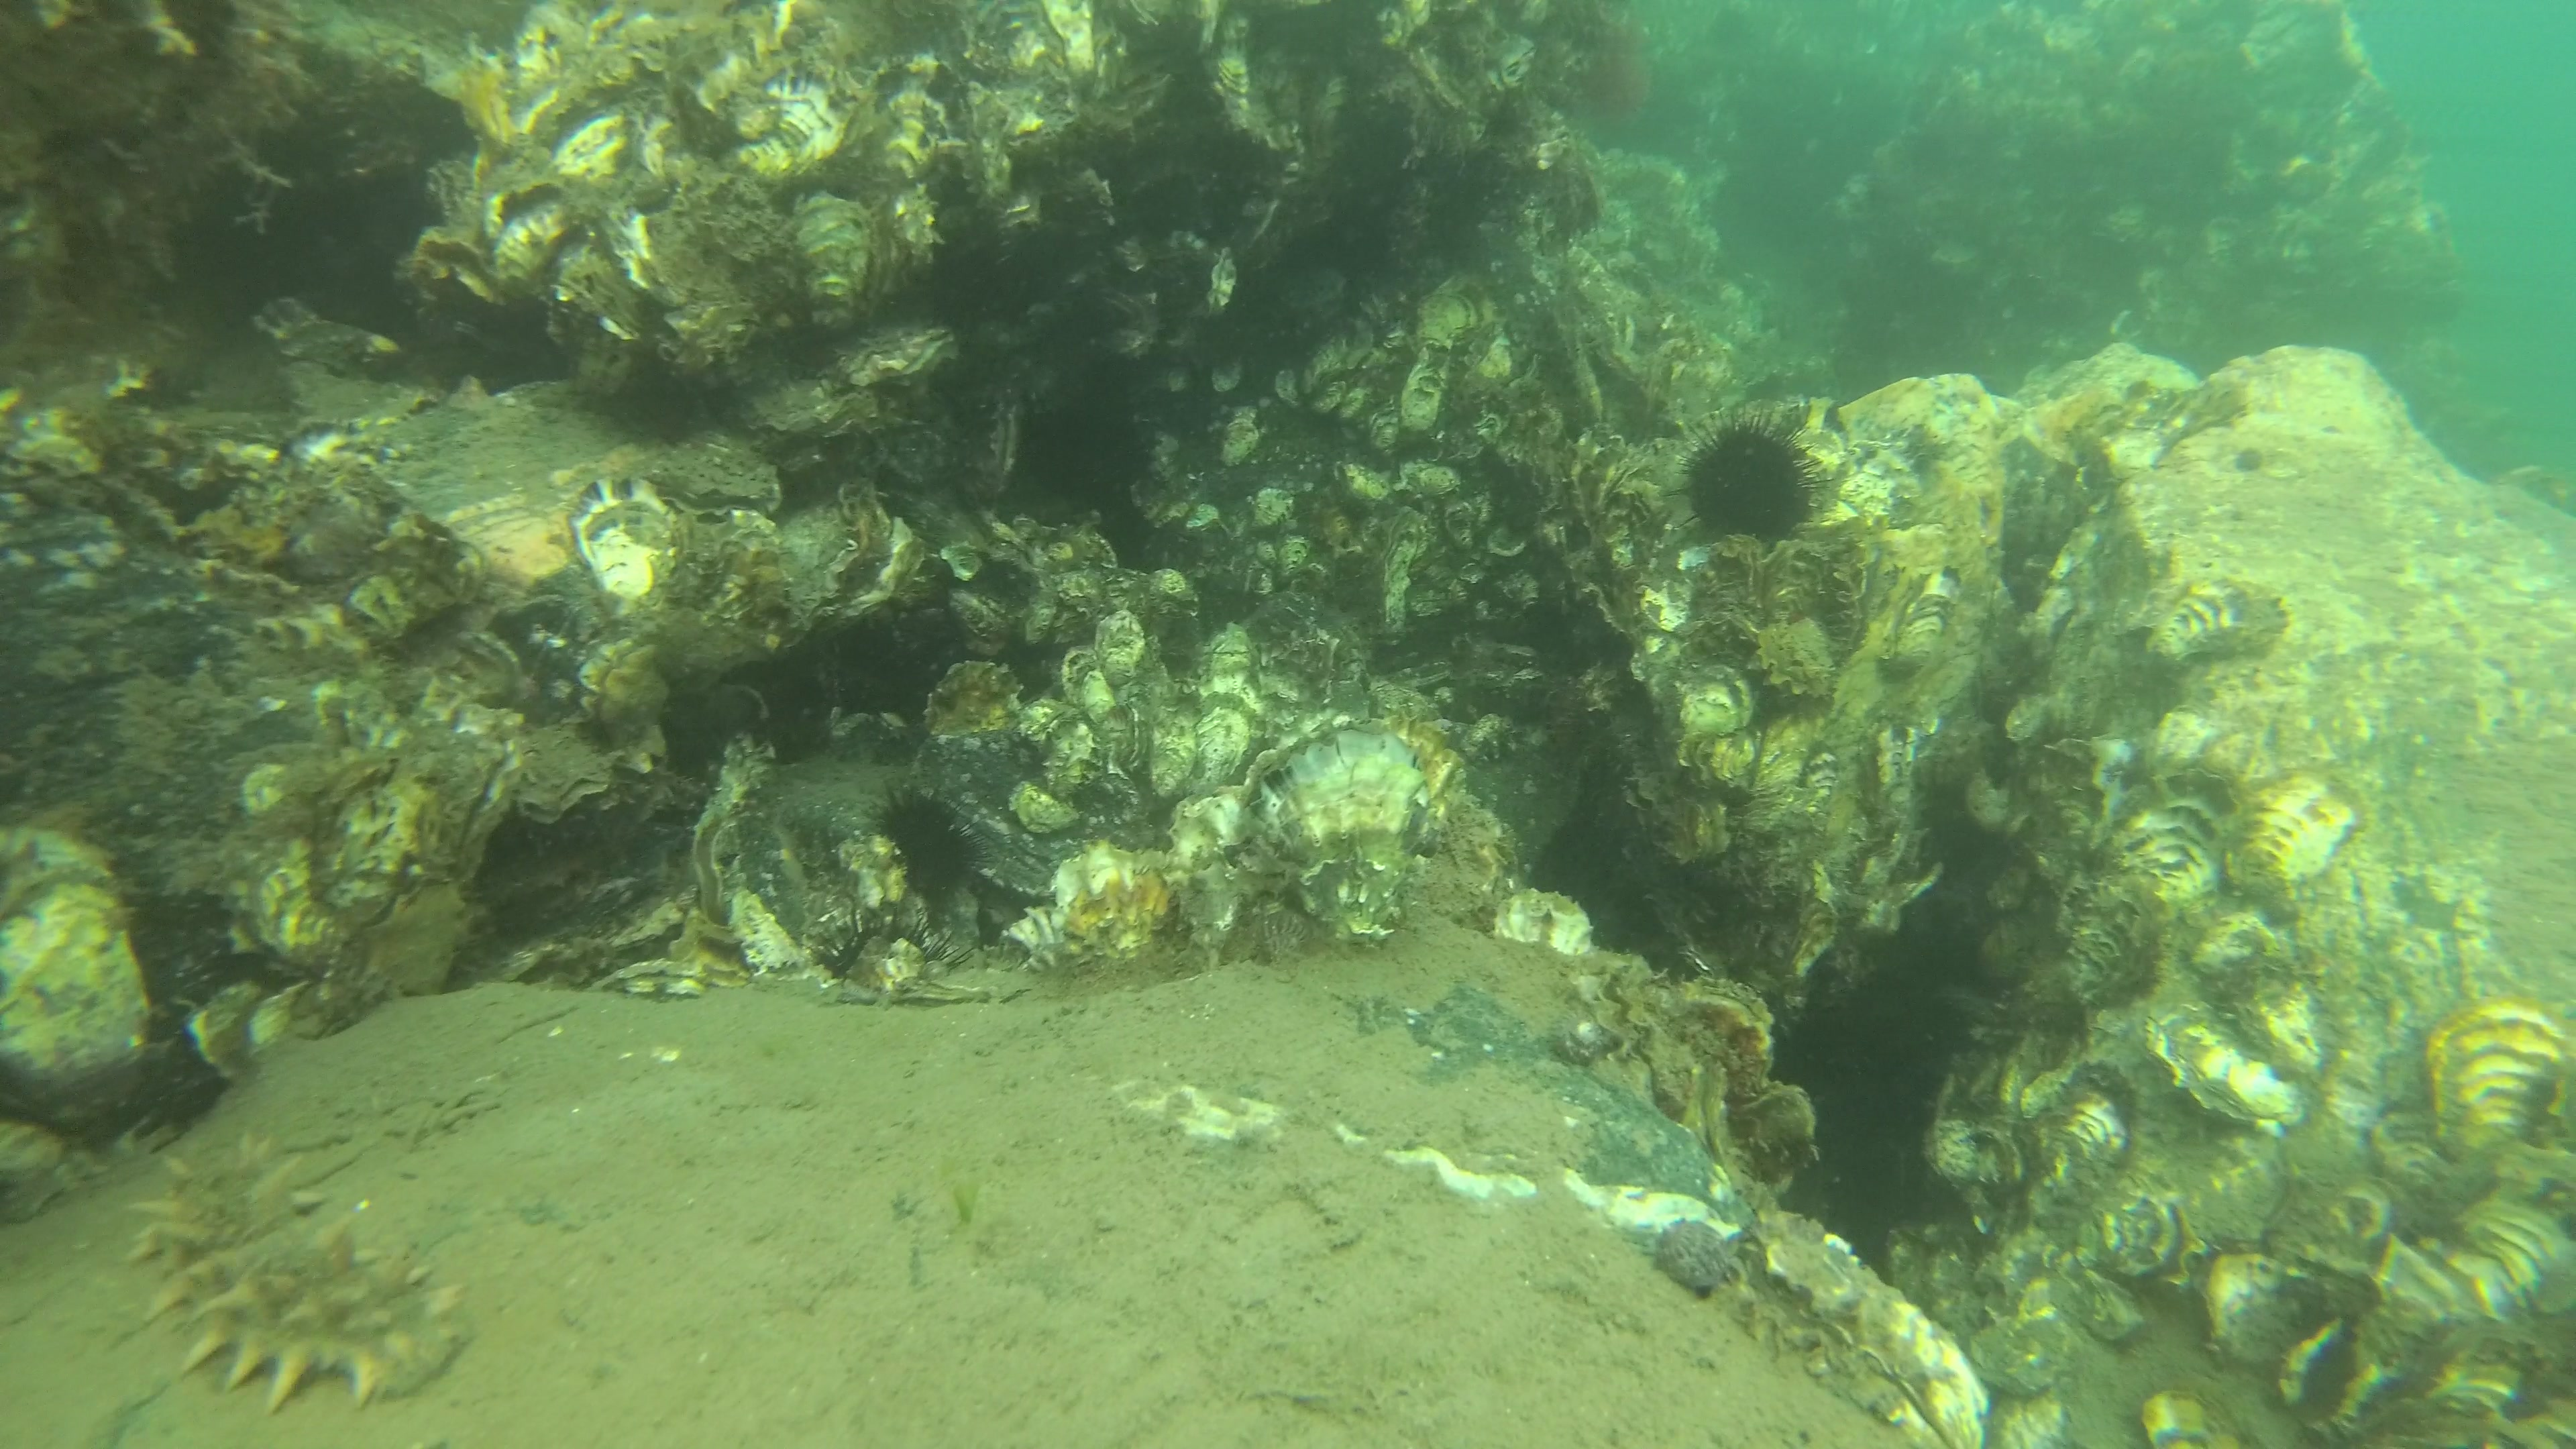echinus: (1674, 405, 1835, 545), (863, 782, 985, 908), (1704, 4, 1750, 48), (1905, 131, 1950, 177)
holothurian: (122, 1138, 471, 1414)
